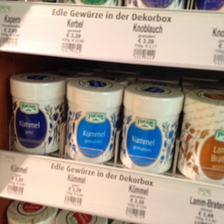spices: (120, 83, 183, 172), (65, 76, 123, 164), (9, 72, 65, 152), (179, 89, 224, 181)
